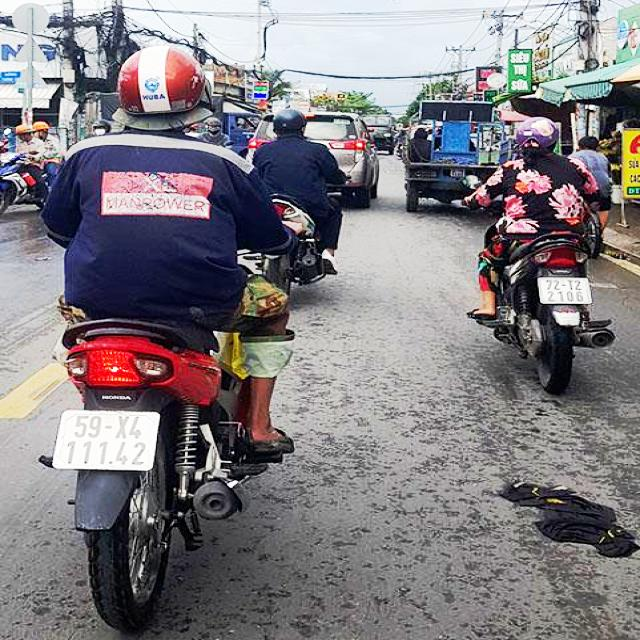license_plate: (55, 411, 163, 469)
